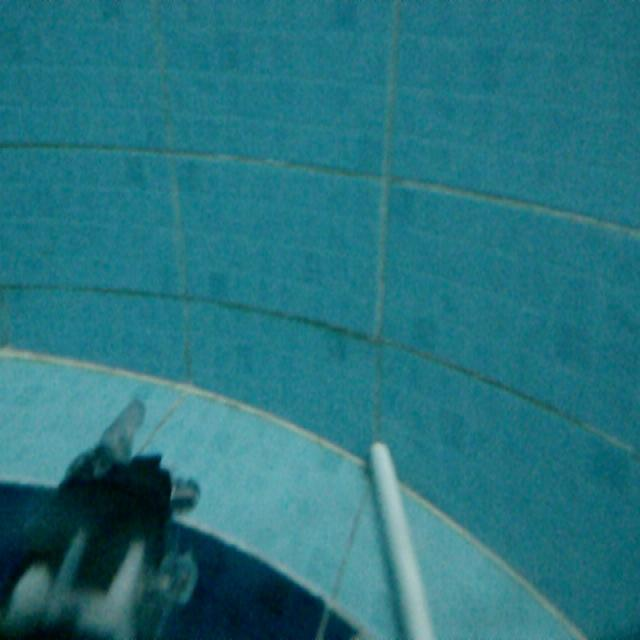Cube: (361, 437, 460, 640)
